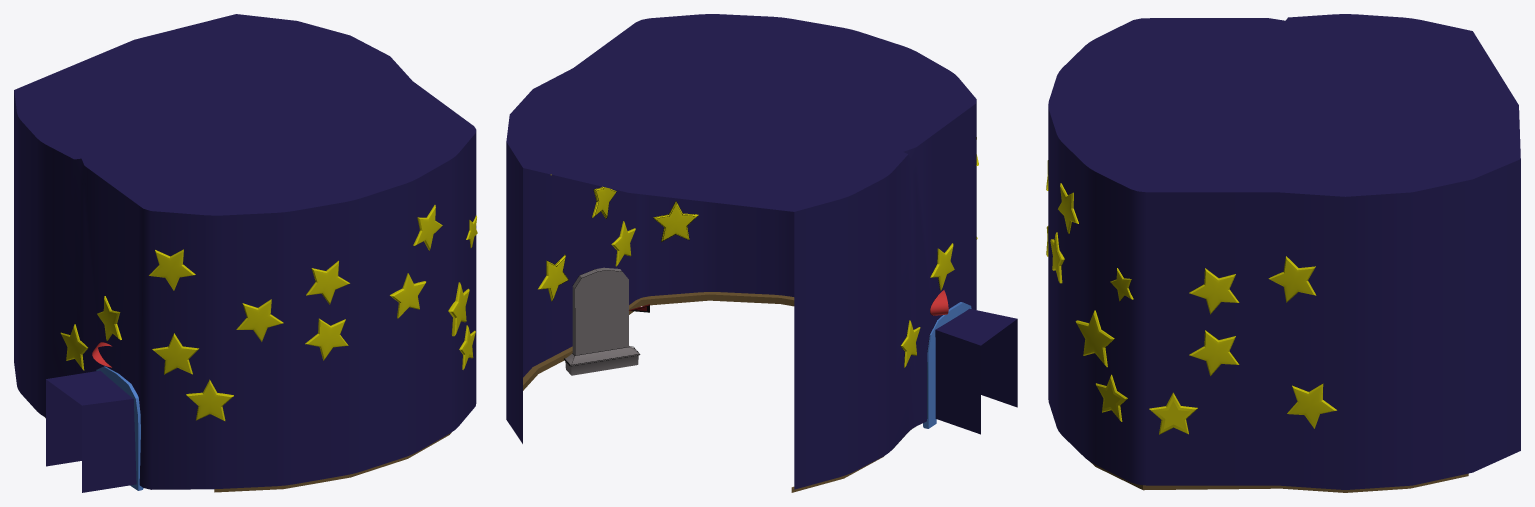
Rendered from Background.fbx.
3 renders of one model, left to right at view 1: azimuth 30°, elevation 25°; view 2: azimuth 150°, elevation 25°; view 3: azimuth 270°, elevation 25°, orthographic. The views are drawn at different scales.
Parts seen in each view (by area): view 1: Cube.006; view 2: Cube.006; view 3: Cube.006.
Part boxes in pixels (<box>): Cube.006: <box>14,14,477,492</box>; Cube.006: <box>506,14,1017,492</box>; Cube.006: <box>1046,14,1520,492</box>.
Size of the model in its own units: 5894 by 4079 by 5746.
